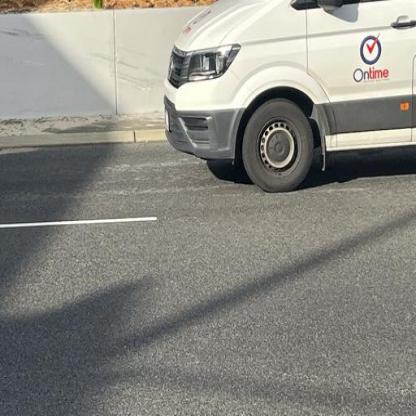Tire: (242, 97, 314, 194)
